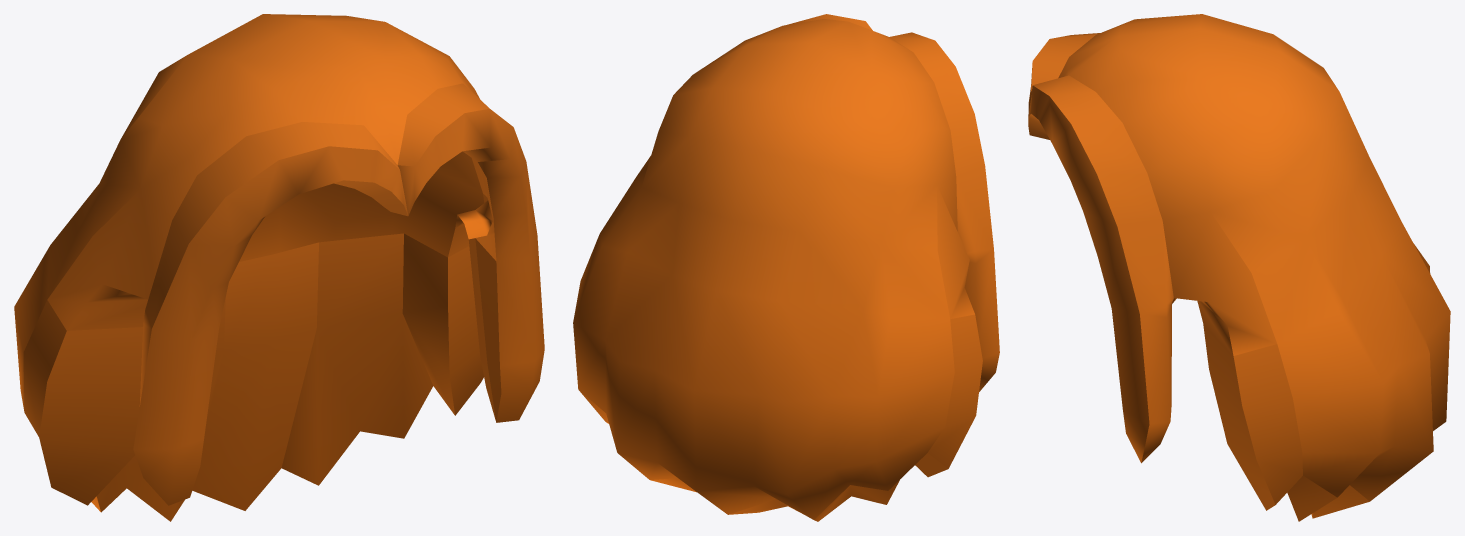
The model's file is Hair_Orange_10.fbx.
The picture shows the model from 3 angles, left to right: view 1: azimuth 30°, elevation 25°; view 2: azimuth 150°, elevation 25°; view 3: azimuth 270°, elevation 25°; orthographic projection. The views are drawn at different scales.
Parts seen in each view (by area): view 1: Hair_Orange_10; view 2: Hair_Orange_10; view 3: Hair_Orange_10.
Part boxes in pixels (<box>): Hair_Orange_10: <box>14,14,544,521</box>; Hair_Orange_10: <box>573,14,999,521</box>; Hair_Orange_10: <box>1028,14,1450,521</box>.
Bounding box in the file's own units: 74.41 × 80.17 × 66.04.
